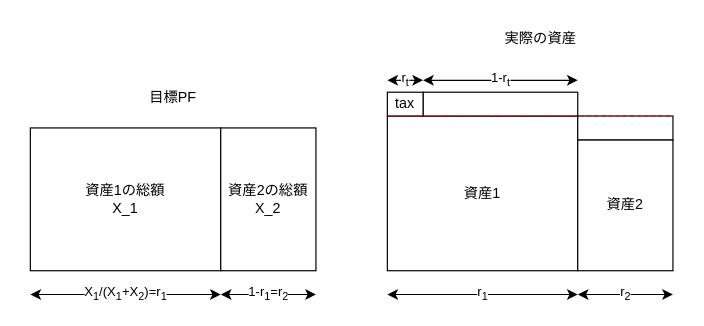
The diagram is 704 pixels wide and 326 high, and some of its shapes have lost their labels. The centre of each missing label's shape, as x and y in pixels:
"ΔX 1-" belongs at pixel 500 103.
"ΔX 2" belongs at pixel 625 127.
